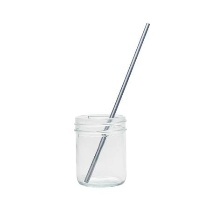drinking_straw: (79, 19, 153, 185)
glass: (68, 109, 131, 189)
